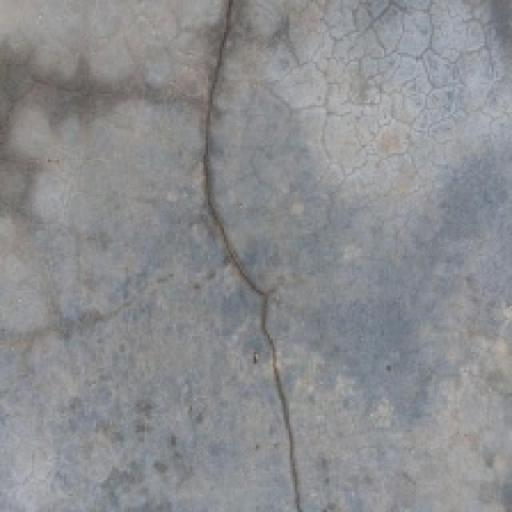moderate crack: (354, 3, 484, 151)
severe crack: (186, 0, 334, 512)
